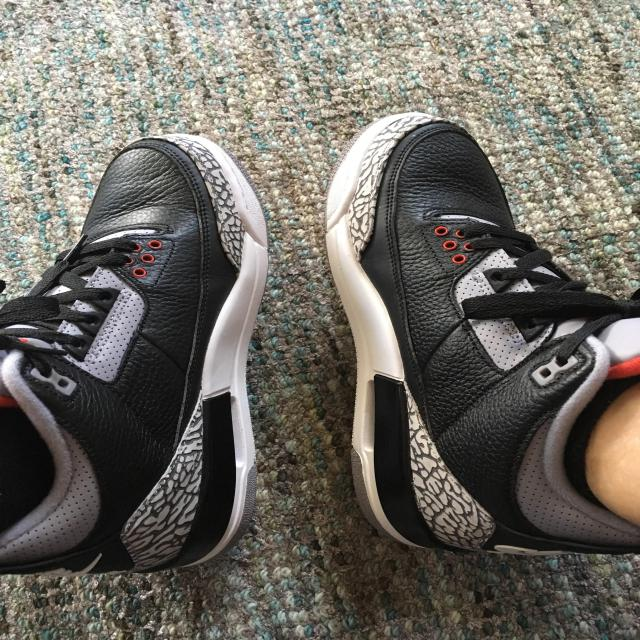shoe: (308, 89, 633, 581), (9, 126, 270, 584)
